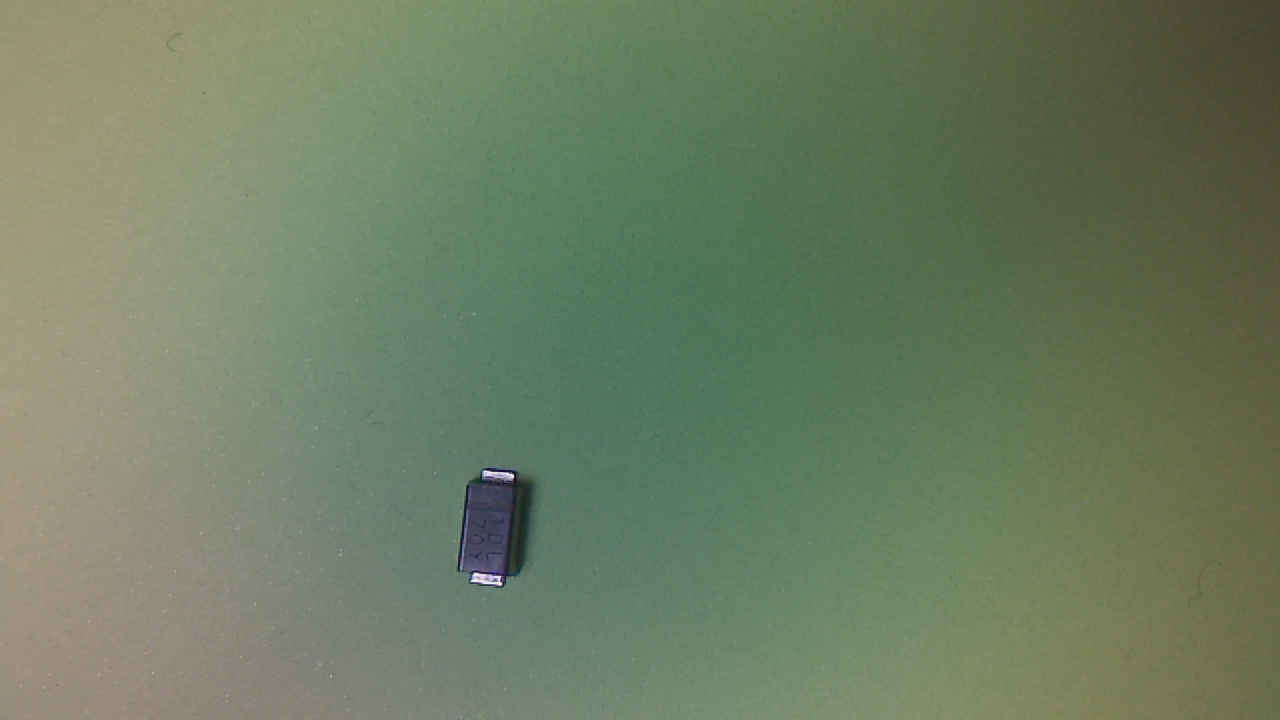Diode: (461, 473, 535, 595)
